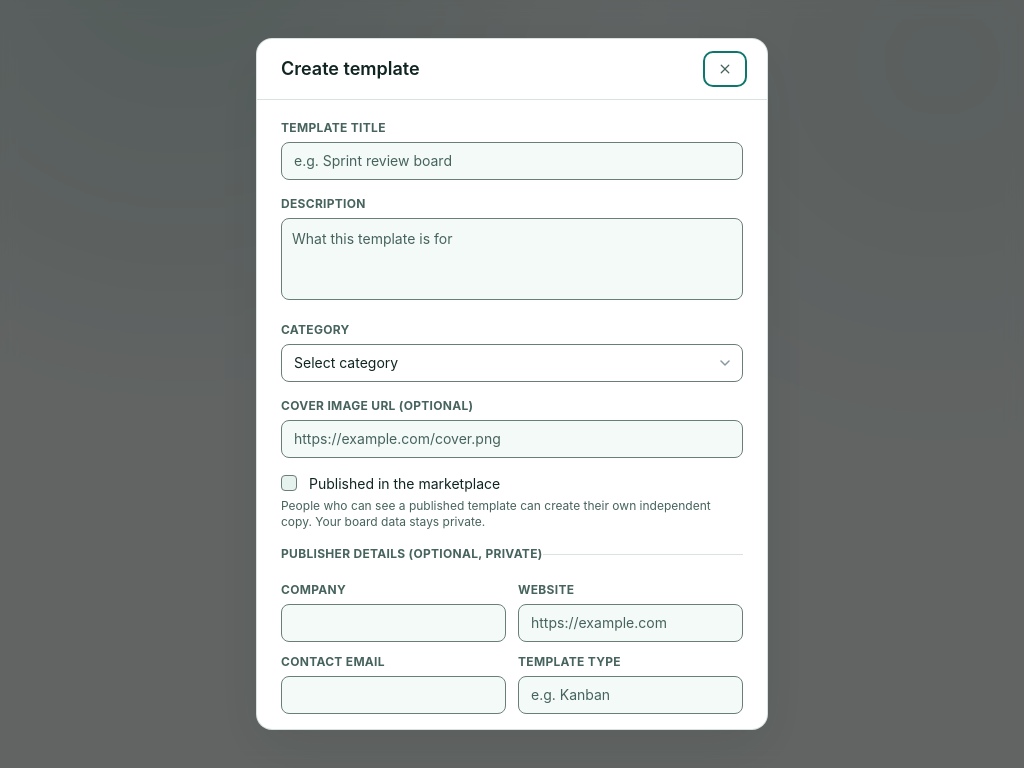
Scenario: template create form › rejects a non-http cover image before sending anything
In the field labelled "Template title": (512, 161) top-left (281, 142), bottom-right (743, 180), type "Sprint review"
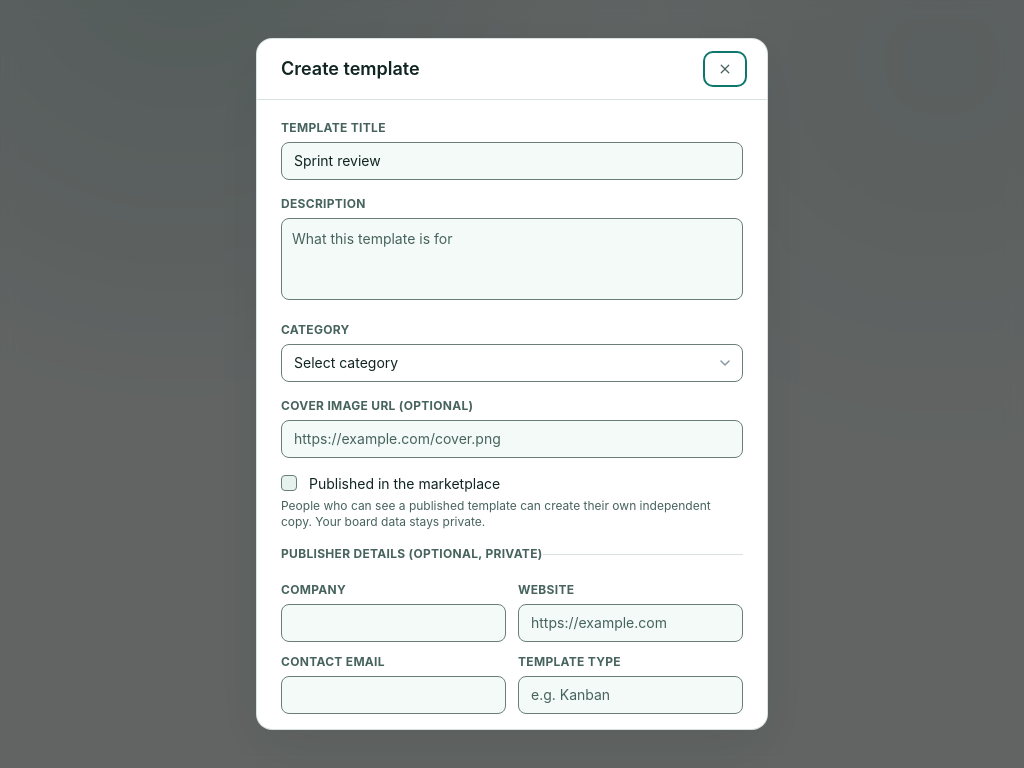
Select "Business" in the dropdown labelled "Category": (512, 363) top-left (281, 344), bottom-right (743, 382)
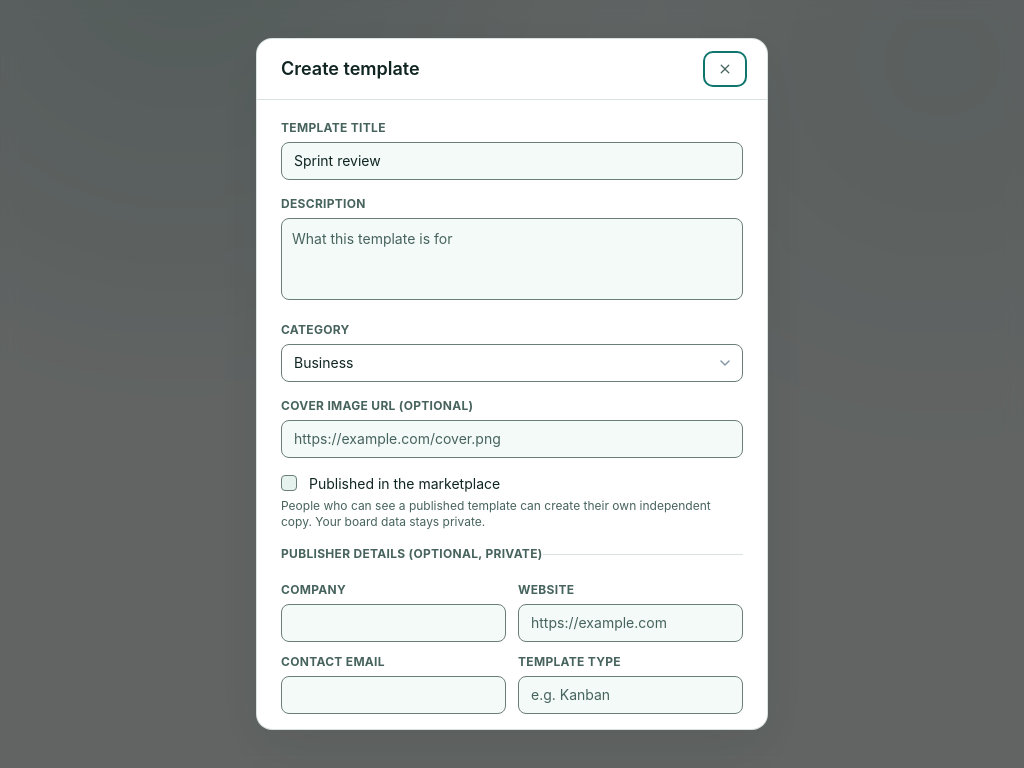
In the field labelled "Cover image URL (optional)": (512, 439) top-left (281, 420), bottom-right (743, 458), type "javascript:alert(1)"
(page scrolled)
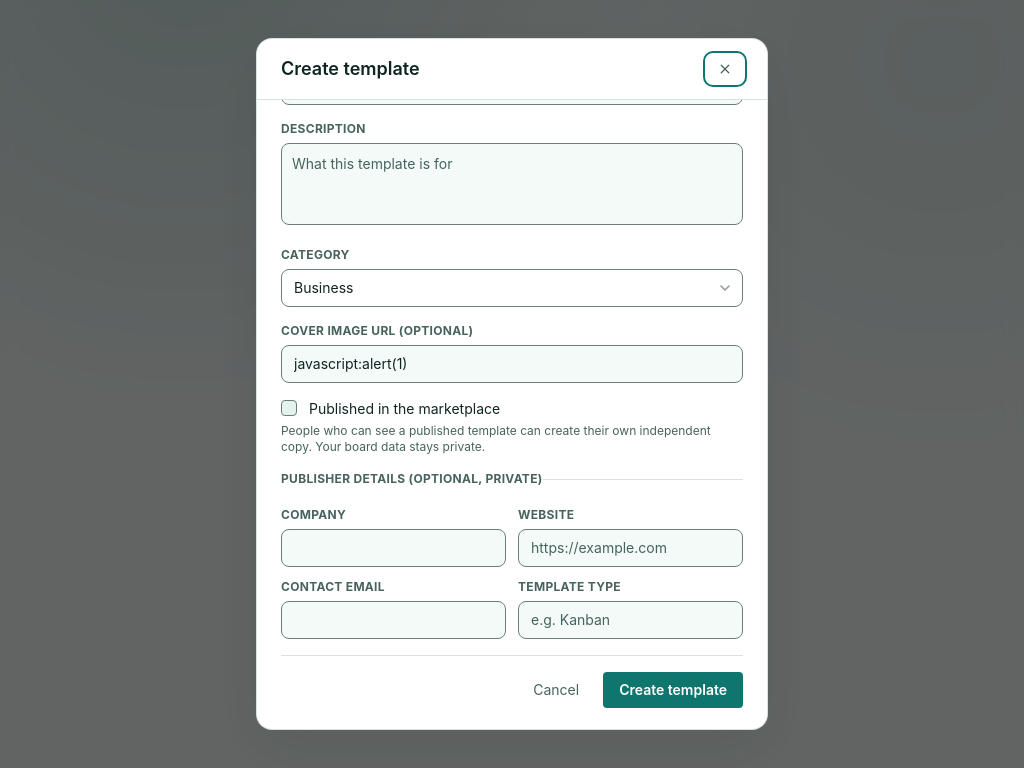
Click the button "Create template": (673, 690) top-left (603, 672), bottom-right (743, 708)
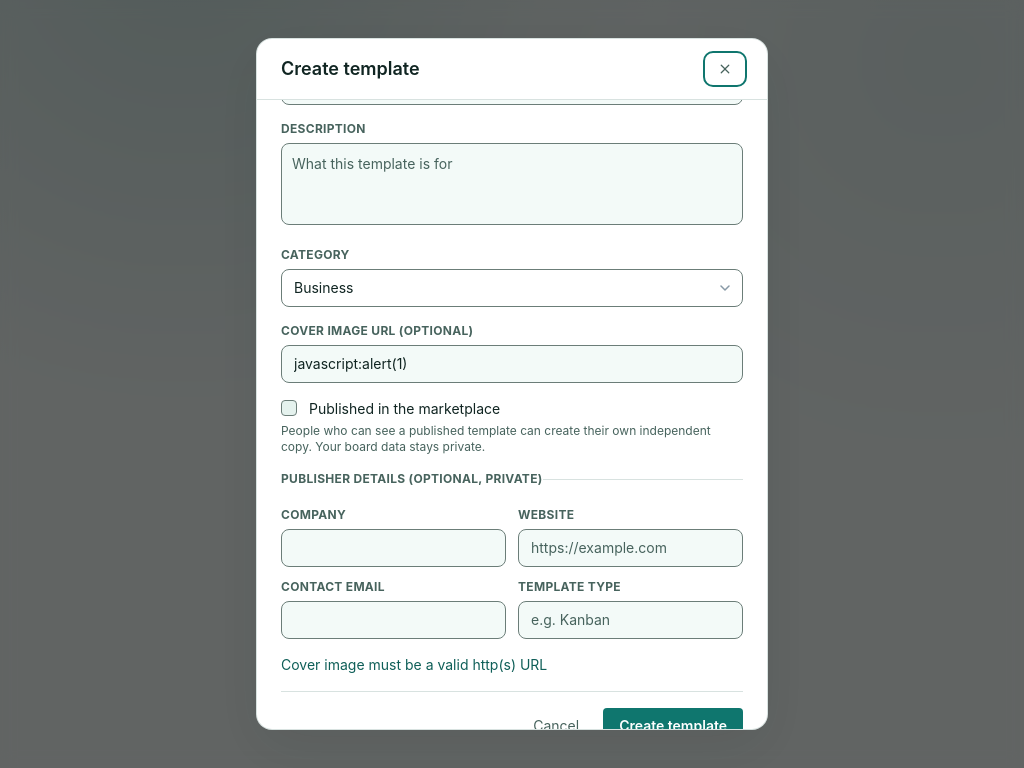
Now the message reads "Cover image must be a valid http(s) URL", box top-left (281, 656), bottom-right (547, 673)
